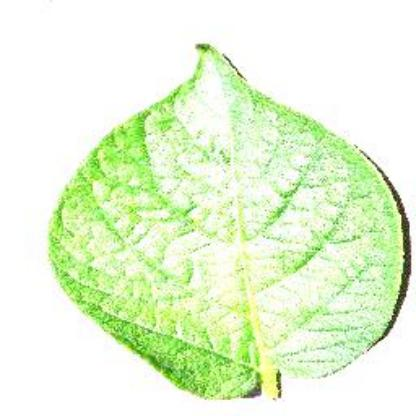Healthy-plant: (52, 40, 408, 404)
